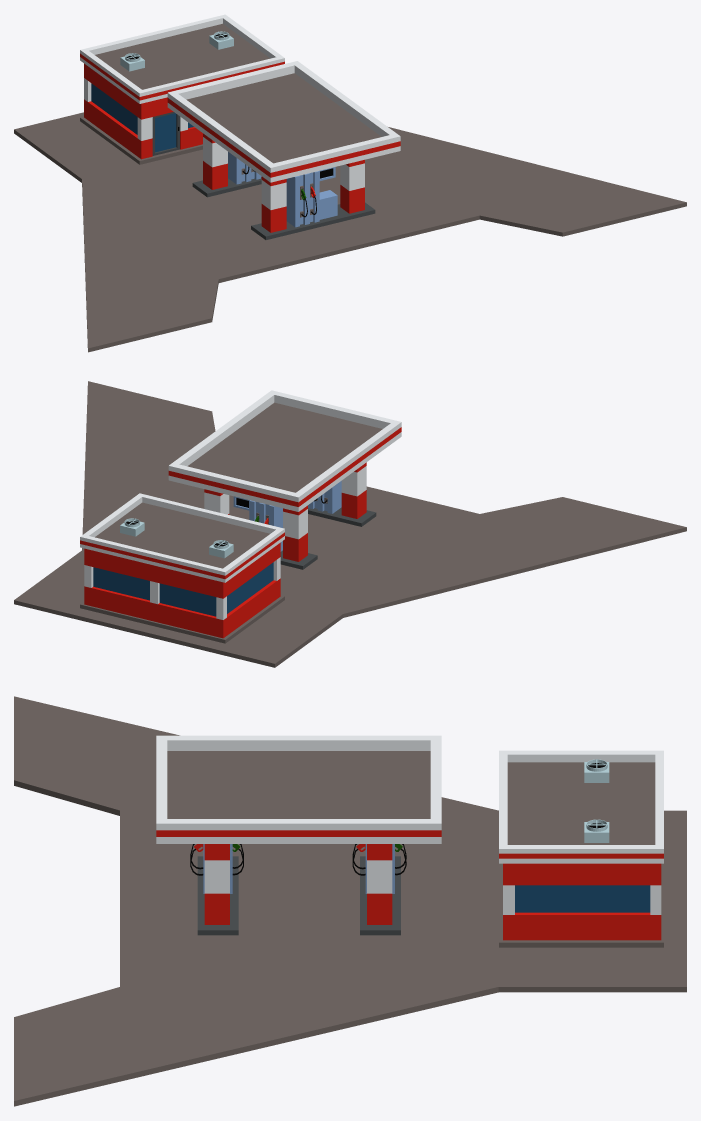
File: gas_station.fbx
3 views of the same model, one above another, from view 1: azimuth 30°, elevation 25°; view 2: azimuth 150°, elevation 25°; view 3: azimuth 270°, elevation 25° (orthographic). The views are drawn at different scales.
Parts seen in each view (by area): view 1: Cube.001_Cube.029, Cube.023_Cube.024, Cube.315_Cube.313, Cube.022_Cube.023, Plane.003_Plane.004, Cube.010_Cube.028, Cube.009_Cube.010, Plane.007_Plane.009, Cube.020_Cube.021; view 2: Cube.001_Cube.029, Cube.315_Cube.313, Cube.023_Cube.024, Cube.022_Cube.023, Plane.007_Plane.009, Plane.003_Plane.004, Cube.009_Cube.010; view 3: Cube.001_Cube.029, Cube.315_Cube.313, Cube.023_Cube.024, Cube.022_Cube.023, Cube.009_Cube.010, Cube.020_Cube.021.
Part boxes in pixels (box(x1,y1,x2,y2)): Cube.001_Cube.029: box(14, 112, 686, 352); Cube.023_Cube.024: box(167, 61, 400, 182); Cube.315_Cube.313: box(80, 14, 284, 164); Cube.022_Cube.023: box(203, 133, 364, 232); Plane.003_Plane.004: box(286, 167, 337, 227); Cube.010_Cube.028: box(152, 112, 179, 155); Cube.009_Cube.010: box(251, 202, 375, 239); Plane.007_Plane.009: box(228, 152, 261, 184); Cube.020_Cube.021: box(192, 177, 261, 197); Cube.001_Cube.029: box(14, 381, 686, 667); Cube.315_Cube.313: box(80, 493, 284, 643); Cube.023_Cube.024: box(168, 390, 401, 511); Cube.022_Cube.023: box(204, 462, 366, 561); Plane.007_Plane.009: box(233, 496, 282, 551); Plane.003_Plane.004: box(308, 481, 341, 513); Cube.009_Cube.010: box(308, 507, 376, 526); Cube.001_Cube.029: box(14, 696, 686, 1106); Cube.315_Cube.313: box(499, 750, 663, 947); Cube.023_Cube.024: box(156, 735, 441, 843); Cube.022_Cube.023: box(204, 844, 392, 924); Cube.009_Cube.010: box(197, 856, 238, 935); Cube.020_Cube.021: box(360, 856, 400, 935).
Bounding box in the file's own units: 6598 × 945 × 4636.
